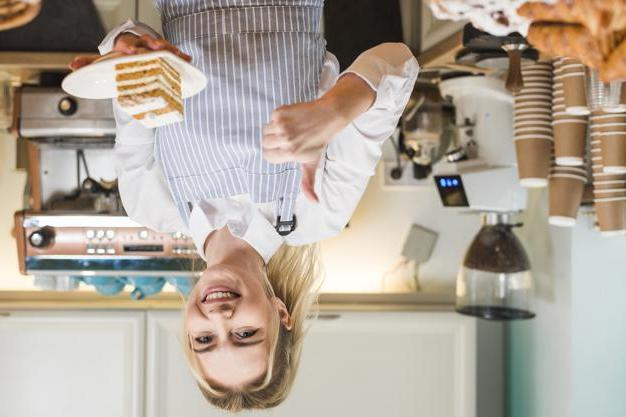thumbsdown: (262, 109, 320, 204)
